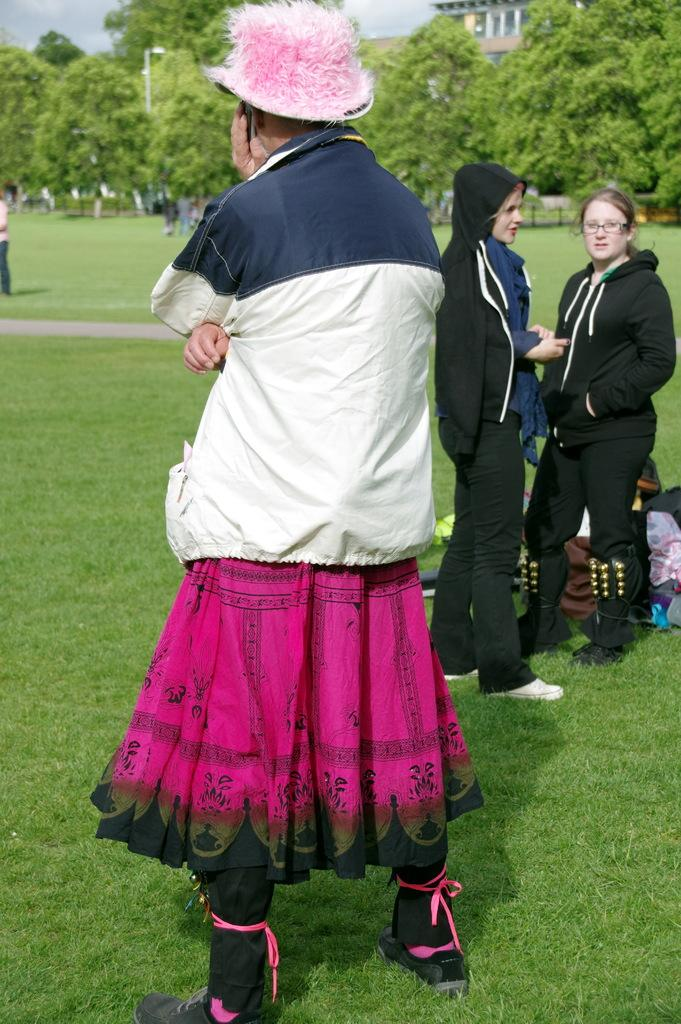Hat: (208, 0, 376, 120)
